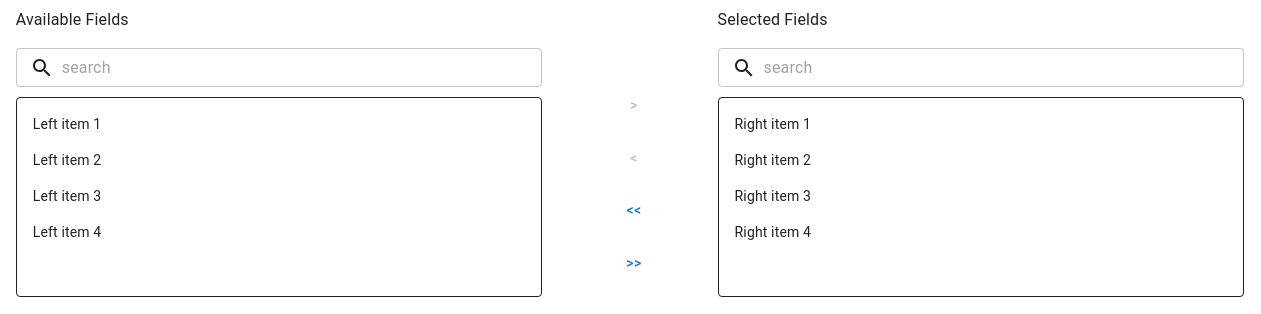
Test case: TransferList › should be able to move all items from left to right
The width and height of the screenshot is (1261, 314).
Click the button named "move all right" at (634, 263), box [602,244,666,281]
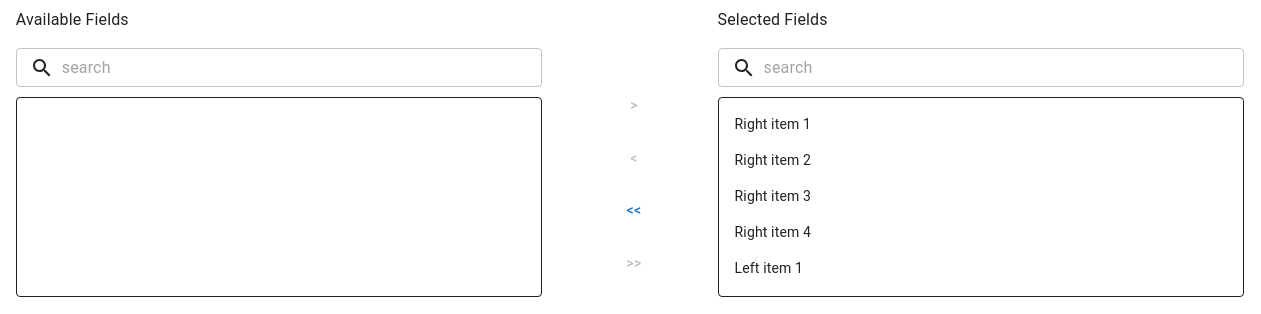
Result: no the button "Left item 2" are shown
